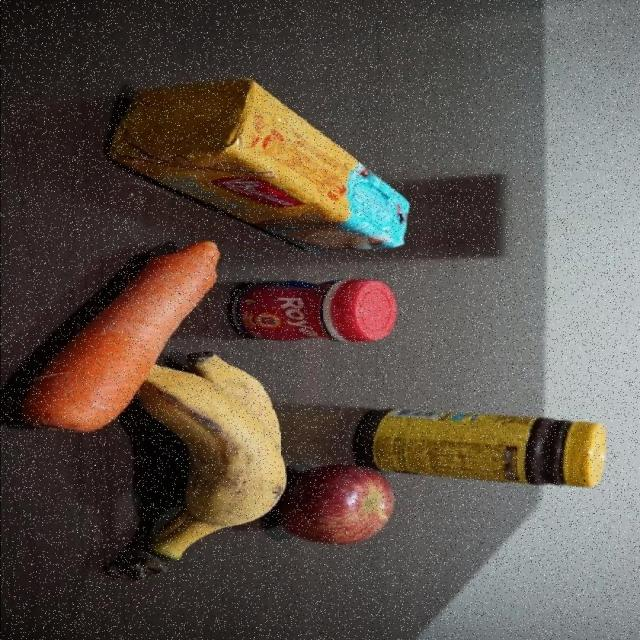Apple: (290, 461, 392, 548)
Banana: (115, 366, 288, 592)
Carrot: (58, 250, 226, 350)
ChocolatePowder: (405, 411, 613, 487)
Cracker: (101, 81, 412, 248)
Yeast: (230, 278, 398, 344)
